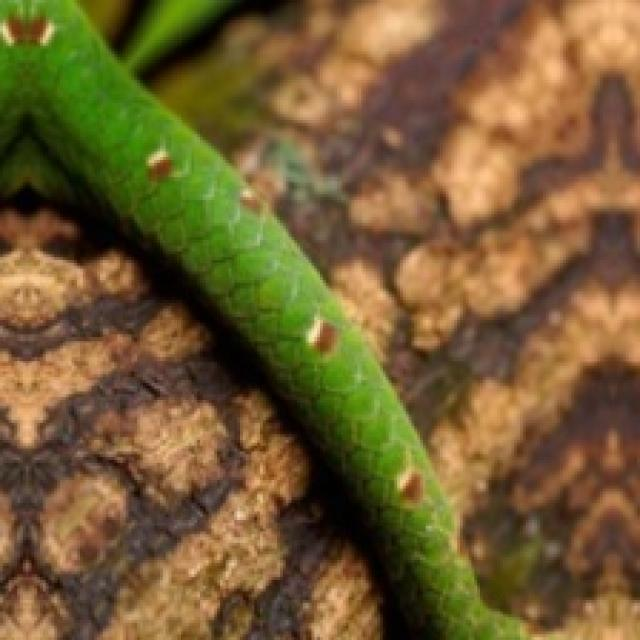north ph temple pitviper: (0, 0, 526, 637)
